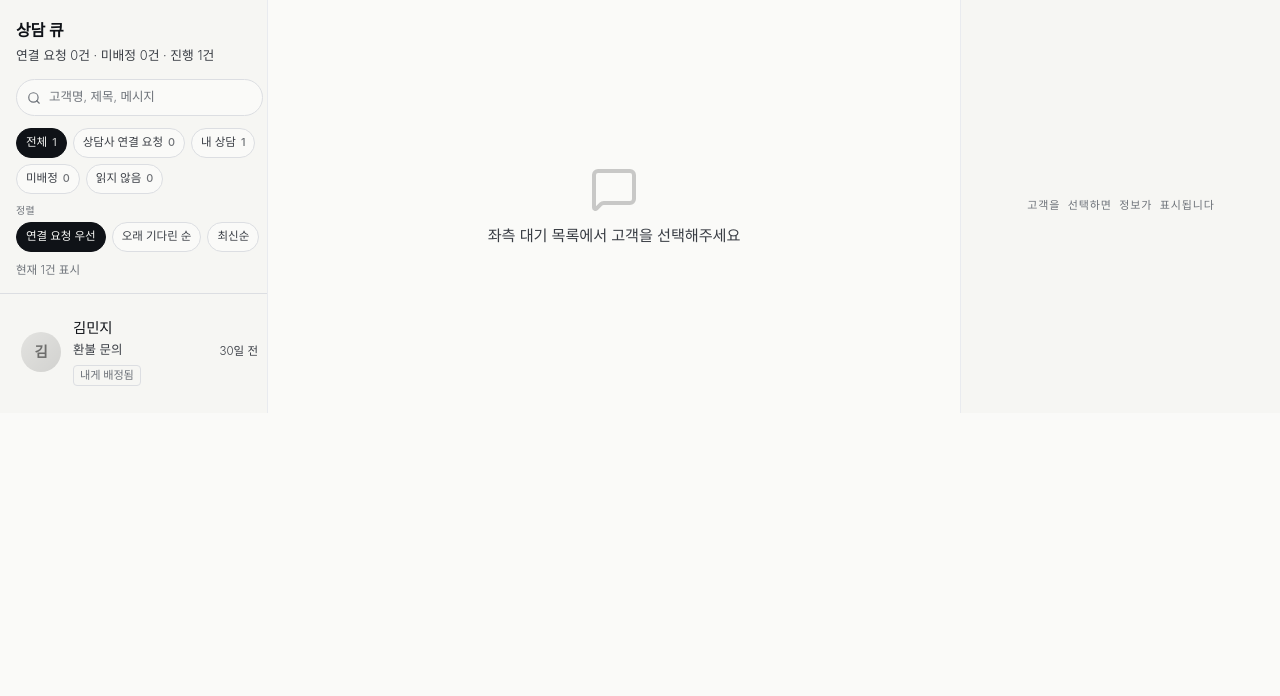
ConsultationPage generated API integration › 상담 화면에서 고객 선택 시 generated 메시지 URL 응답을 렌더링한다
Click the button "김 김민지 환불 문의 내게 배정됨 30일 전".
click(41, 352)  # box [8,302,271,401]
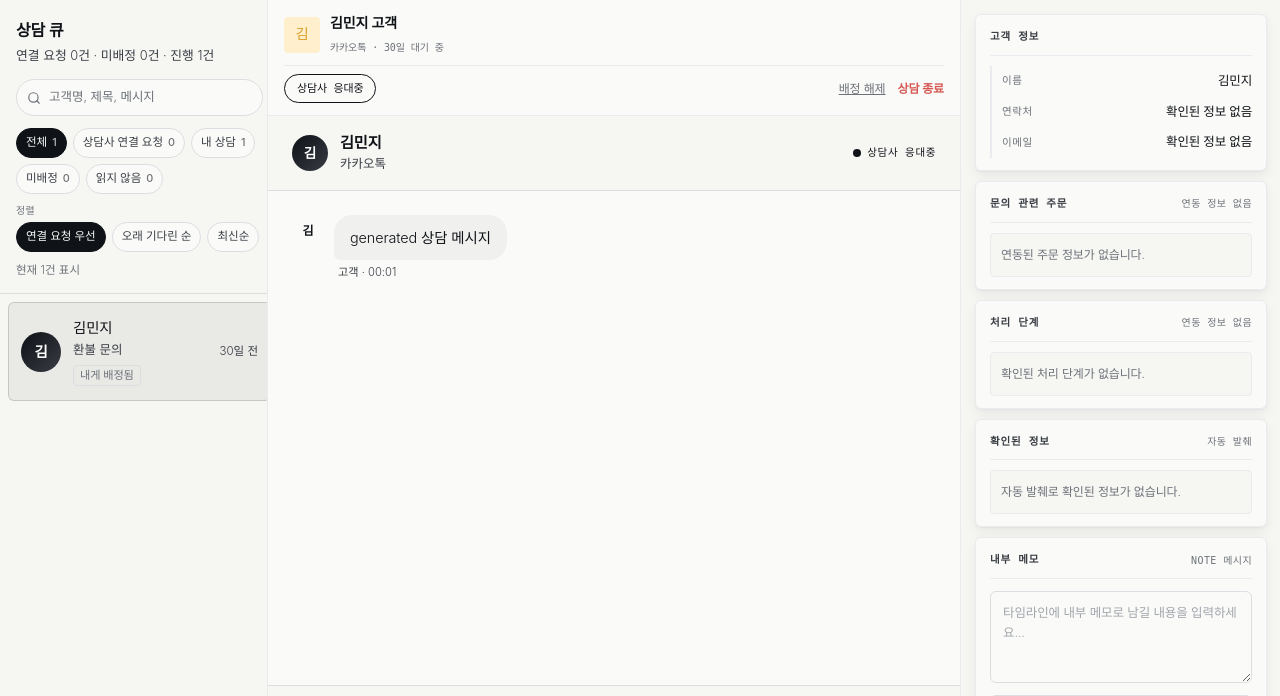
Check: the text "generated 상담 메시지" is shown, box [334,214,507,260]
